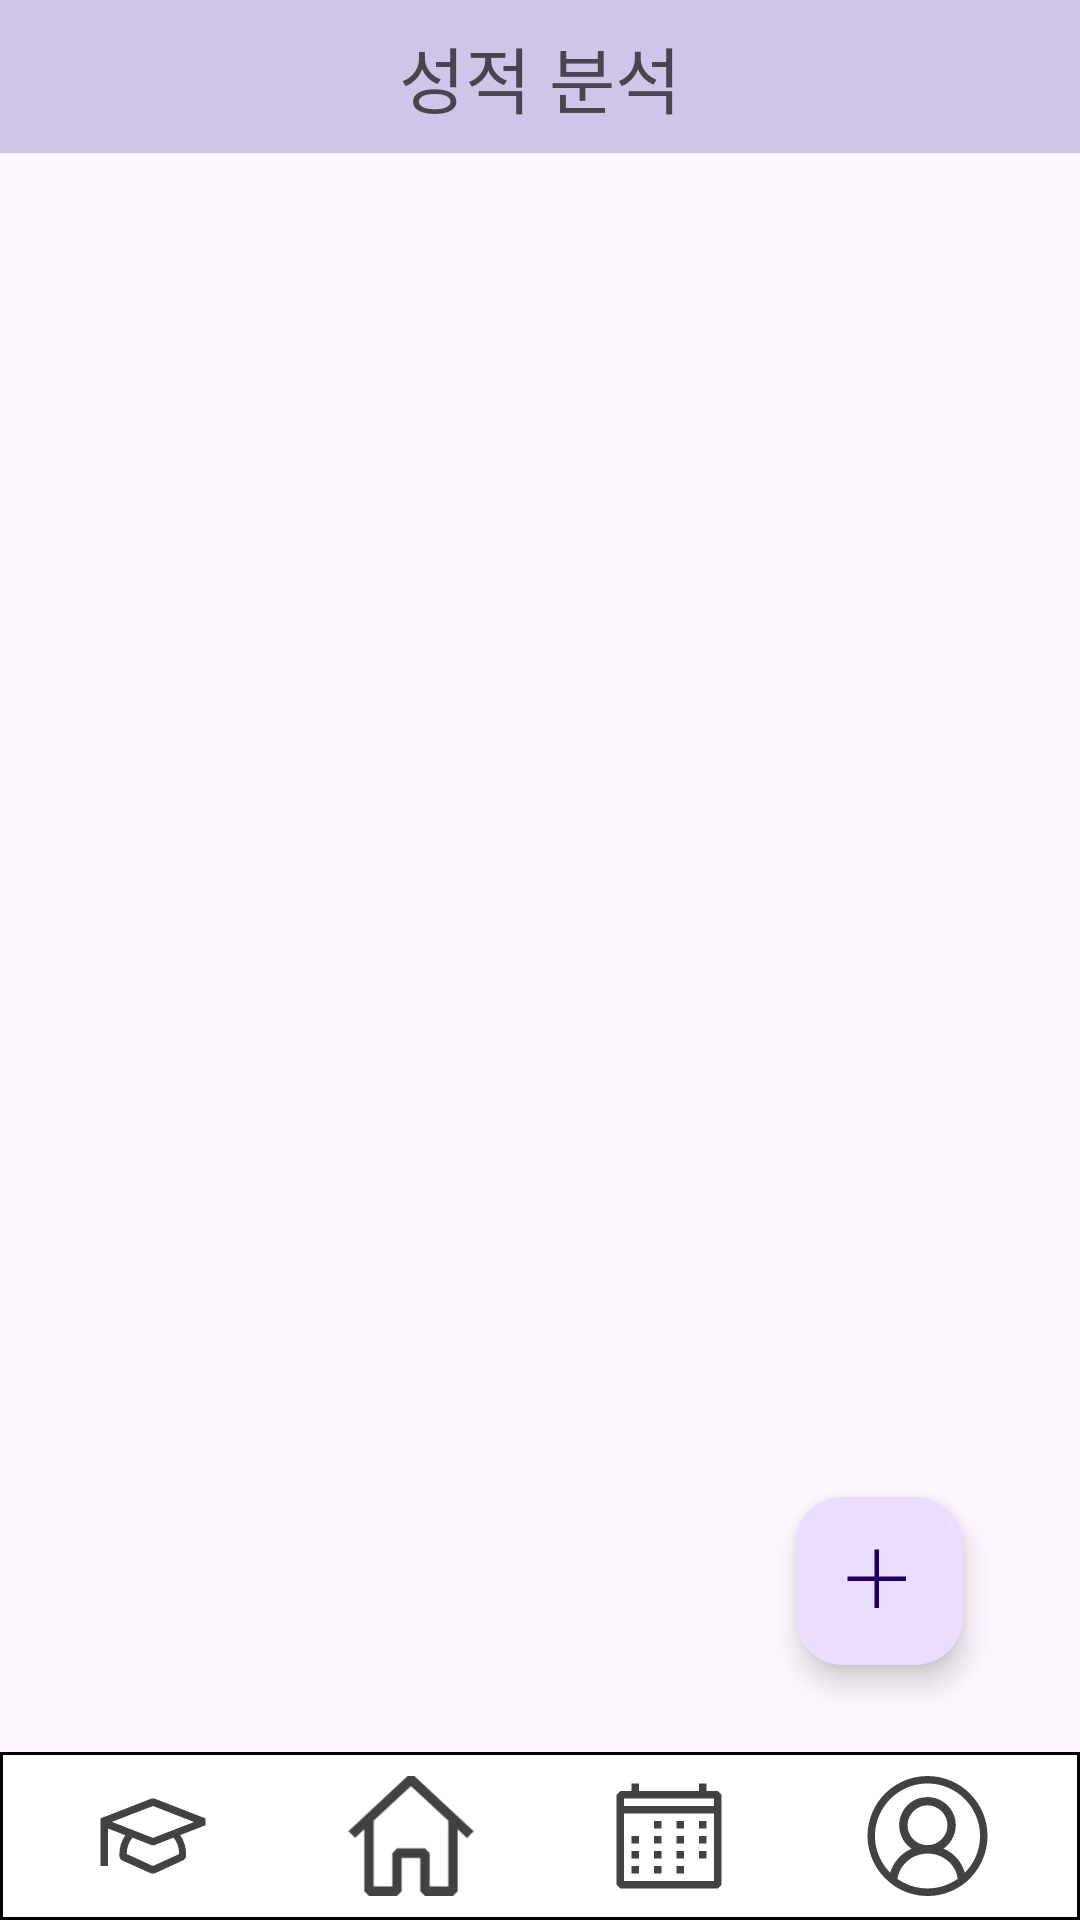

Named icons in this screenshot (1080×1920) and their centers, [x,y]:
add: [879,1581]
home: [411,1836]
plan: [669,1836]
profile: [927,1836]
score: [153,1836]
